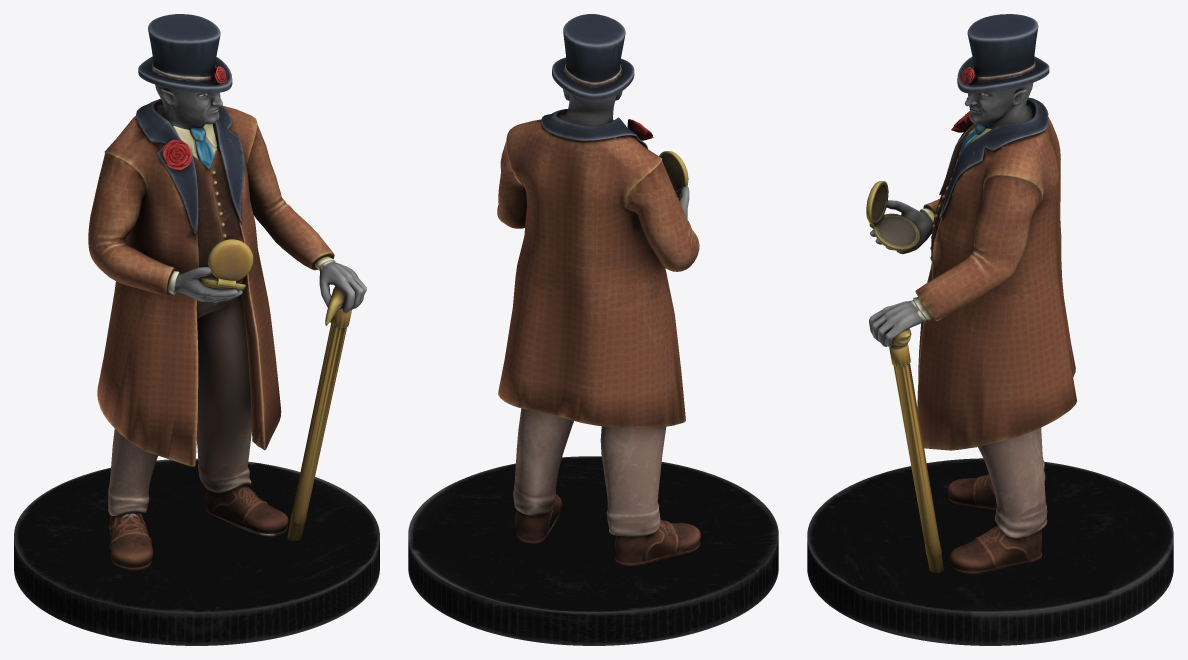
The model's file is MZ4250 - Mister Witch.glb.
3 renders of one model, left to right at view 1: azimuth 30°, elevation 25°; view 2: azimuth 150°, elevation 25°; view 3: azimuth 270°, elevation 25°, orthographic.
Parts seen in each view (by area): view 1: body_low.001, base_low.001, hat_low.001, cane_low.001, watch_low.001, rose_low.001; view 2: body_low.001, base_low.001, hat_low.001, watch_low.001; view 3: body_low.001, base_low.001, hat_low.001, cane_low.001, watch_low.001.
Part boxes in pixels (left/top/right/bottom): body_low.001: left=88, top=84, right=366, bottom=570; base_low.001: left=14, top=458, right=379, bottom=645; hat_low.001: left=138, top=14, right=232, bottom=92; cane_low.001: left=287, top=286, right=351, bottom=540; watch_low.001: left=199, top=239, right=253, bottom=290; rose_low.001: left=162, top=66, right=226, bottom=169; body_low.001: left=497, top=89, right=700, bottom=566; base_low.001: left=408, top=456, right=778, bottom=645; hat_low.001: left=552, top=14, right=634, bottom=100; watch_low.001: left=659, top=151, right=688, bottom=200; body_low.001: left=869, top=83, right=1076, bottom=573; base_low.001: left=807, top=458, right=1173, bottom=645; hat_low.001: left=957, top=14, right=1049, bottom=93; cane_low.001: left=889, top=328, right=943, bottom=573; watch_low.001: left=866, top=181, right=920, bottom=251.
Bounding box in the file's own units: 3.53 × 5.75 × 3.53.
1 material, 1 textured.
